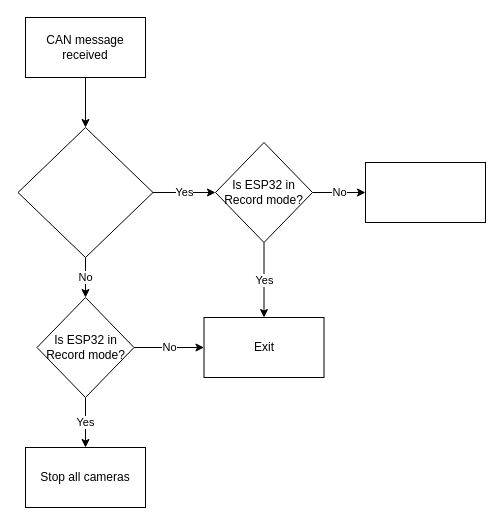
Image size: 503x525. Some labels were removed from this diagram. Each missing label, with the centre of its shape:
"Does the message say cameras should be recording?" goes at point (85, 192).
"Start all cameras" goes at point (425, 192).
